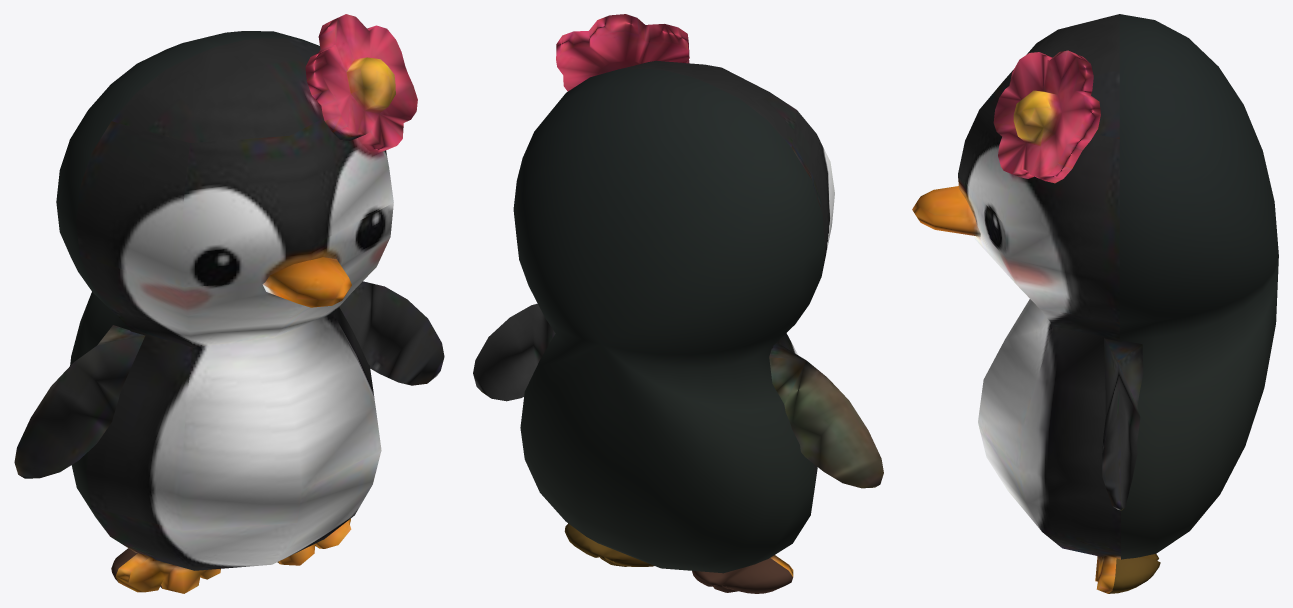
File: penguin-04-34-flower-bobble-crochet-penguin.gltf
3 renders of one model, left to right at view 1: azimuth 30°, elevation 25°; view 2: azimuth 150°, elevation 25°; view 3: azimuth 270°, elevation 25°, orthographic. The views are drawn at different scales.
Visible parts, largest first — view 1: penguin-04-34-flower-bobble-crochet-penguin; view 2: penguin-04-34-flower-bobble-crochet-penguin; view 3: penguin-04-34-flower-bobble-crochet-penguin.
Part boxes in pixels (bbox=[...]): penguin-04-34-flower-bobble-crochet-penguin: bbox=[14, 14, 444, 593]; penguin-04-34-flower-bobble-crochet-penguin: bbox=[473, 14, 883, 593]; penguin-04-34-flower-bobble-crochet-penguin: bbox=[912, 14, 1278, 593].
Size of the model in its own units: 0.2 by 0.2456 by 0.1499.
Materials: 1 (1 with a texture image).
